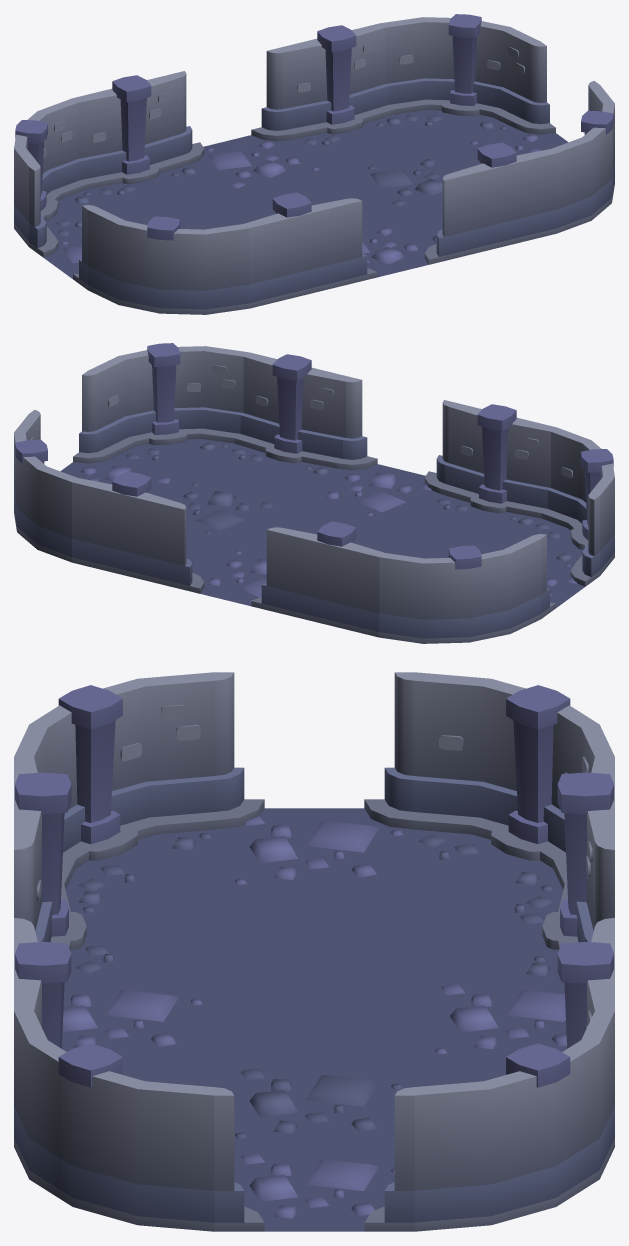
Rendered from room-wide.glb.
3 renders of one model, top to bottom at view 1: azimuth 30°, elevation 25°; view 2: azimuth 150°, elevation 25°; view 3: azimuth 270°, elevation 25°, orthographic. The views are drawn at different scales.
Parts seen in each view (by area): view 1: room-wide; view 2: room-wide; view 3: room-wide.
Part boxes in pixels (<box>): room-wide: <box>14,14,614,314</box>; room-wide: <box>14,343,614,643</box>; room-wide: <box>14,672,614,1231</box>.
Bounding box in the file's own units: 20 × 3.33 × 12.
